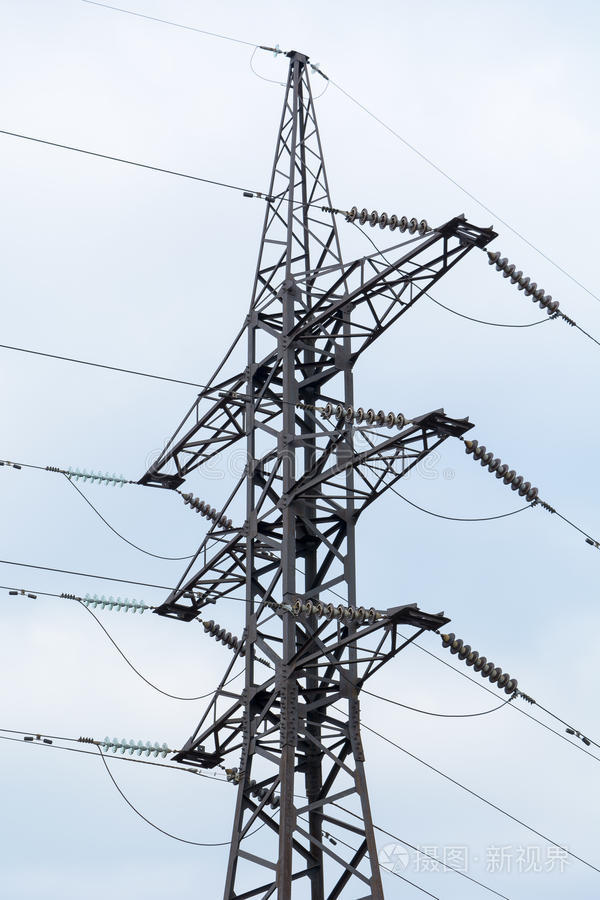insulator: (486, 247, 565, 317), (438, 632, 520, 693), (466, 439, 538, 502), (286, 596, 379, 627), (221, 767, 281, 811), (346, 204, 428, 236), (321, 401, 405, 431), (80, 589, 151, 615), (184, 491, 233, 528), (201, 617, 243, 656), (98, 736, 167, 759), (67, 465, 127, 488)
